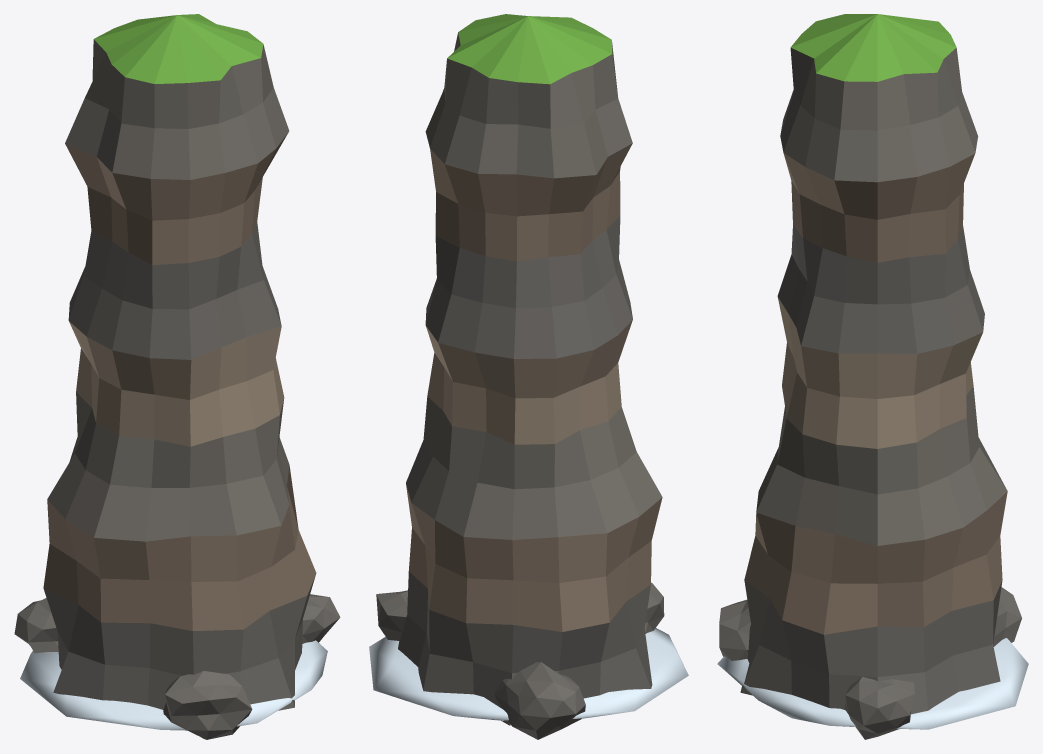
The model's file is SeaStack.glb.
The picture shows the model from 3 angles, left to right: view 1: azimuth 30°, elevation 25°; view 2: azimuth 150°, elevation 25°; view 3: azimuth 270°, elevation 25°; orthographic projection.
Parts seen in each view (by area): view 1: SeaStack; view 2: SeaStack; view 3: SeaStack.
Boxes of the visible parts, x1=… form: SeaStack: x1=14, y1=14, x2=340, y2=739; SeaStack: x1=369, y1=14, x2=688, y2=739; SeaStack: x1=717, y1=14, x2=1028, y2=739.
Bounding box in the file's own units: 3.21 × 7.03 × 2.96.
